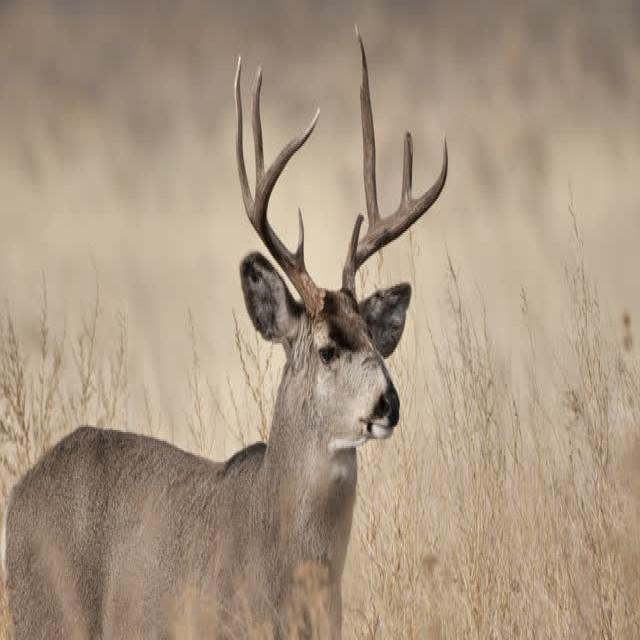L-F: (342, 133, 449, 294)
L-G1: (344, 213, 365, 266)
L-G2: (358, 35, 380, 230)
L-G3: (401, 130, 413, 202)
R-F: (254, 108, 324, 314)
R-G1: (295, 207, 304, 266)
R-G2: (234, 56, 254, 226)
R-G3: (251, 65, 264, 196)
